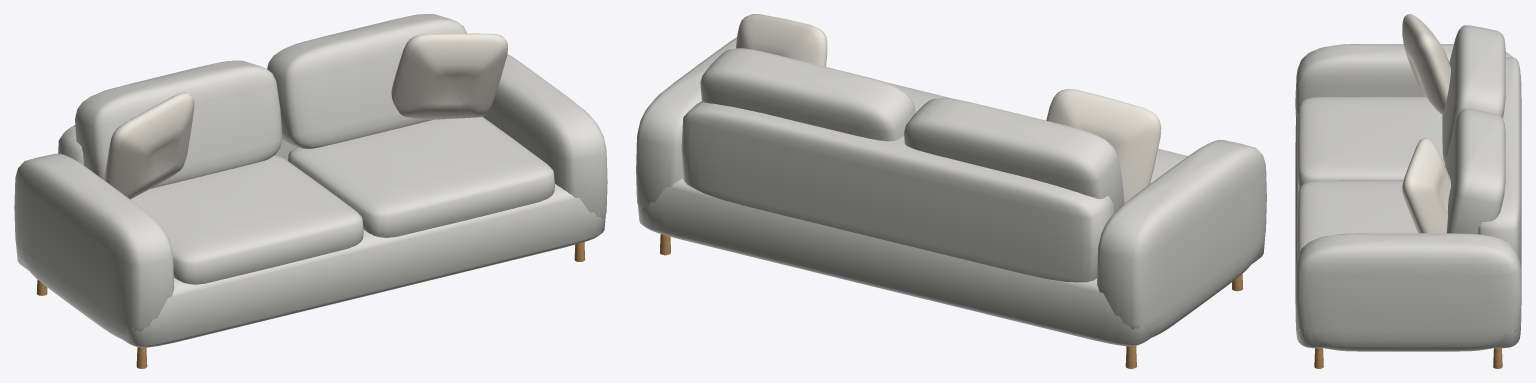
File: sofa.glb
3 renders of one model, left to right at view 1: azimuth 30°, elevation 25°; view 2: azimuth 150°, elevation 25°; view 3: azimuth 270°, elevation 25°, orthographic. The views are drawn at different scales.
Visible parts, largest first — view 1: sofa_arms, sofa_frame, sofa_seat_cushion_r, sofa_seat_cushion_l, sofa_back_cushion_r, sofa_back_cushion_l, sofa_pillow_r, sofa_pillow_l, sofa_legs; view 2: sofa_frame, sofa_arms, sofa_back_cushion_l, sofa_back_cushion_r, sofa_pillow_l, sofa_pillow_r, sofa_legs, sofa_seat_cushion_l; view 3: sofa_arms, sofa_seat_cushion_l, sofa_back_cushion_r, sofa_seat_cushion_r, sofa_back_cushion_l, sofa_frame, sofa_pillow_r, sofa_pillow_l, sofa_legs.
Boxes of the visible parts, x1=… form: sofa_arms: x1=14, y1=54, x2=607, y2=339; sofa_frame: x1=16, y1=125, x2=605, y2=347; sofa_seat_cushion_r: x1=288, y1=116, x2=554, y2=237; sofa_seat_cushion_l: x1=130, y1=155, x2=363, y2=284; sofa_back_cushion_r: x1=267, y1=14, x2=466, y2=148; sofa_back_cushion_l: x1=75, y1=60, x2=282, y2=188; sofa_pillow_r: x1=391, y1=33, x2=507, y2=119; sofa_pillow_l: x1=104, y1=92, x2=194, y2=199; sofa_legs: x1=36, y1=242, x2=585, y2=368; sofa_frame: x1=638, y1=101, x2=1265, y2=346; sofa_arms: x1=636, y1=37, x2=1266, y2=337; sofa_back_cushion_l: x1=904, y1=98, x2=1124, y2=212; sofa_back_cushion_r: x1=700, y1=48, x2=915, y2=141; sofa_pillow_l: x1=1046, y1=89, x2=1161, y2=203; sofa_pillow_r: x1=735, y1=14, x2=827, y2=66; sofa_legs: x1=659, y1=234, x2=1243, y2=368; sofa_seat_cushion_l: x1=1150, y1=148, x2=1187, y2=183; sofa_arms: x1=1295, y1=44, x2=1521, y2=351; sofa_seat_cushion_l: x1=1297, y1=96, x2=1445, y2=189; sofa_back_cushion_r: x1=1445, y1=109, x2=1505, y2=234; sofa_seat_cushion_r: x1=1297, y1=180, x2=1417, y2=256; sofa_back_cushion_l: x1=1442, y1=25, x2=1505, y2=163; sofa_frame: x1=1295, y1=57, x2=1521, y2=348; sofa_pillow_r: x1=1402, y1=138, x2=1450, y2=233; sofa_pillow_l: x1=1402, y1=14, x2=1450, y2=115; sofa_legs: x1=1314, y1=348, x2=1502, y2=368.
Size of the model in its own units: 2.1 by 0.8535 by 0.95.
3 materials, 1 textured.
